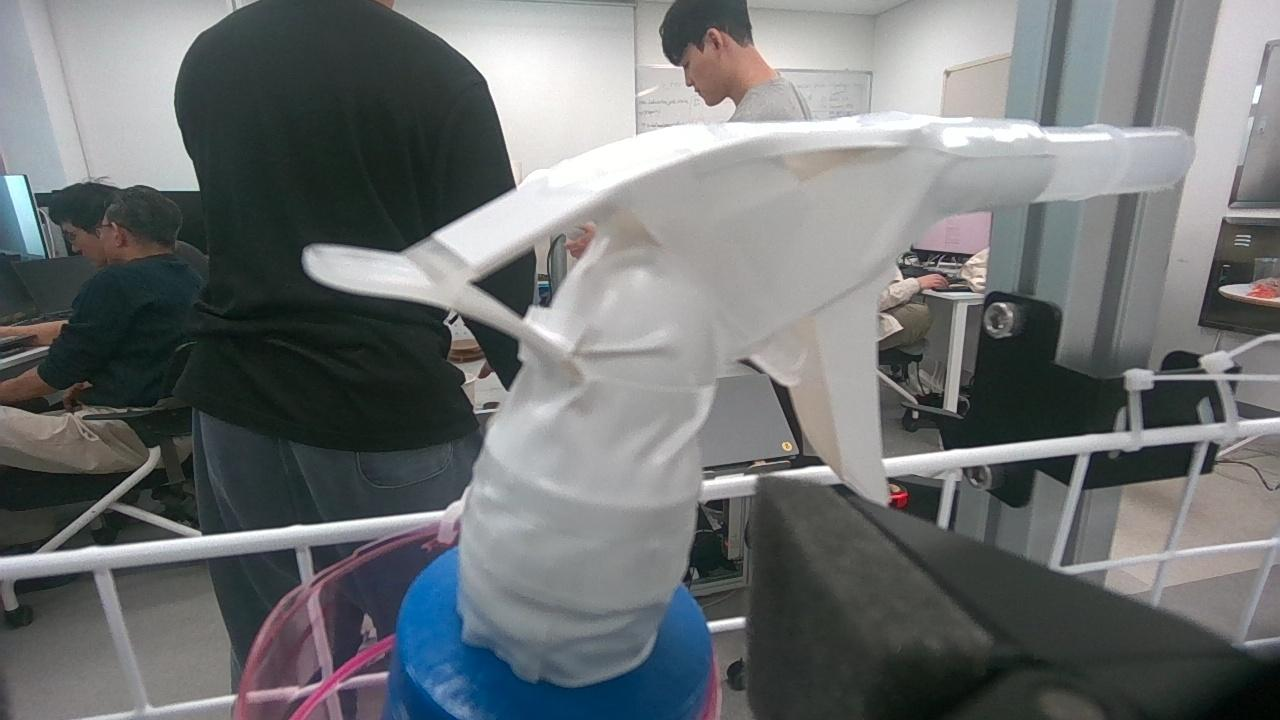Nozzle: (293, 104, 1059, 658)
